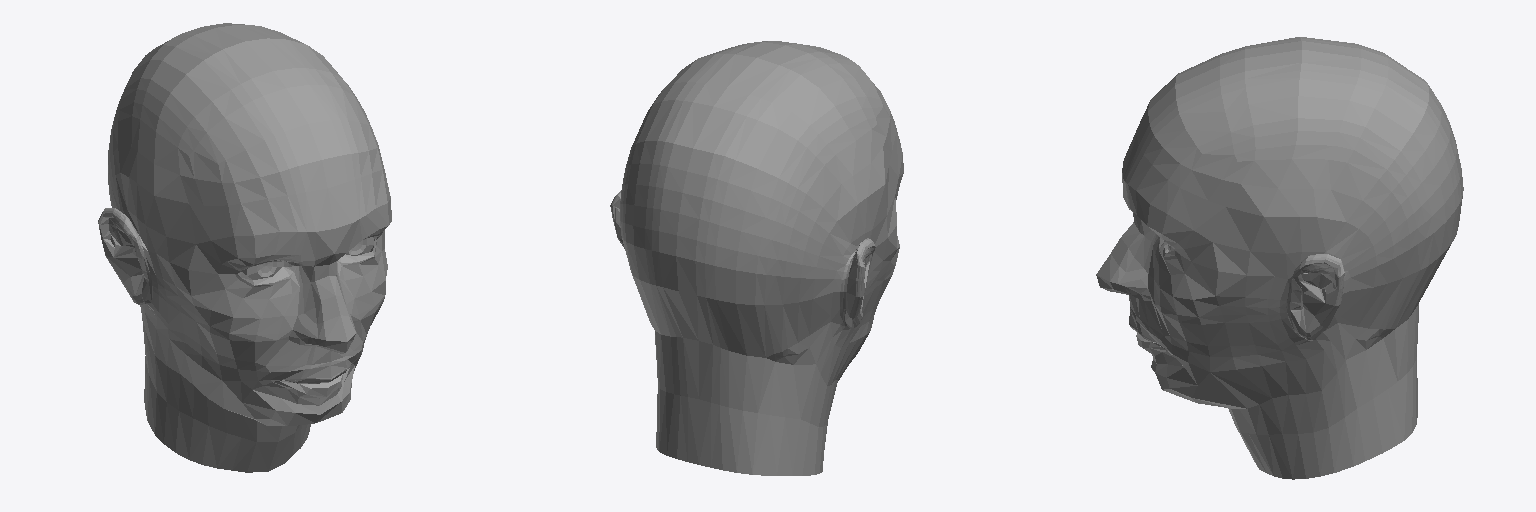
The model's file is danimal-reexport.obj.
3 renders of one model, left to right at view 1: azimuth 30°, elevation 25°; view 2: azimuth 150°, elevation 25°; view 3: azimuth 270°, elevation 25°, orthographic.
Parts seen in each view (by area): view 1: head4_Head1; view 2: head4_Head1; view 3: head4_Head1.
Part boxes in pixels (x1,y1,x2,y2): head4_Head1: (98, 23, 391, 472); head4_Head1: (610, 41, 903, 475); head4_Head1: (1096, 37, 1463, 479).
Bounding box in the file's own units: 25.5 × 39.58 × 31.94.